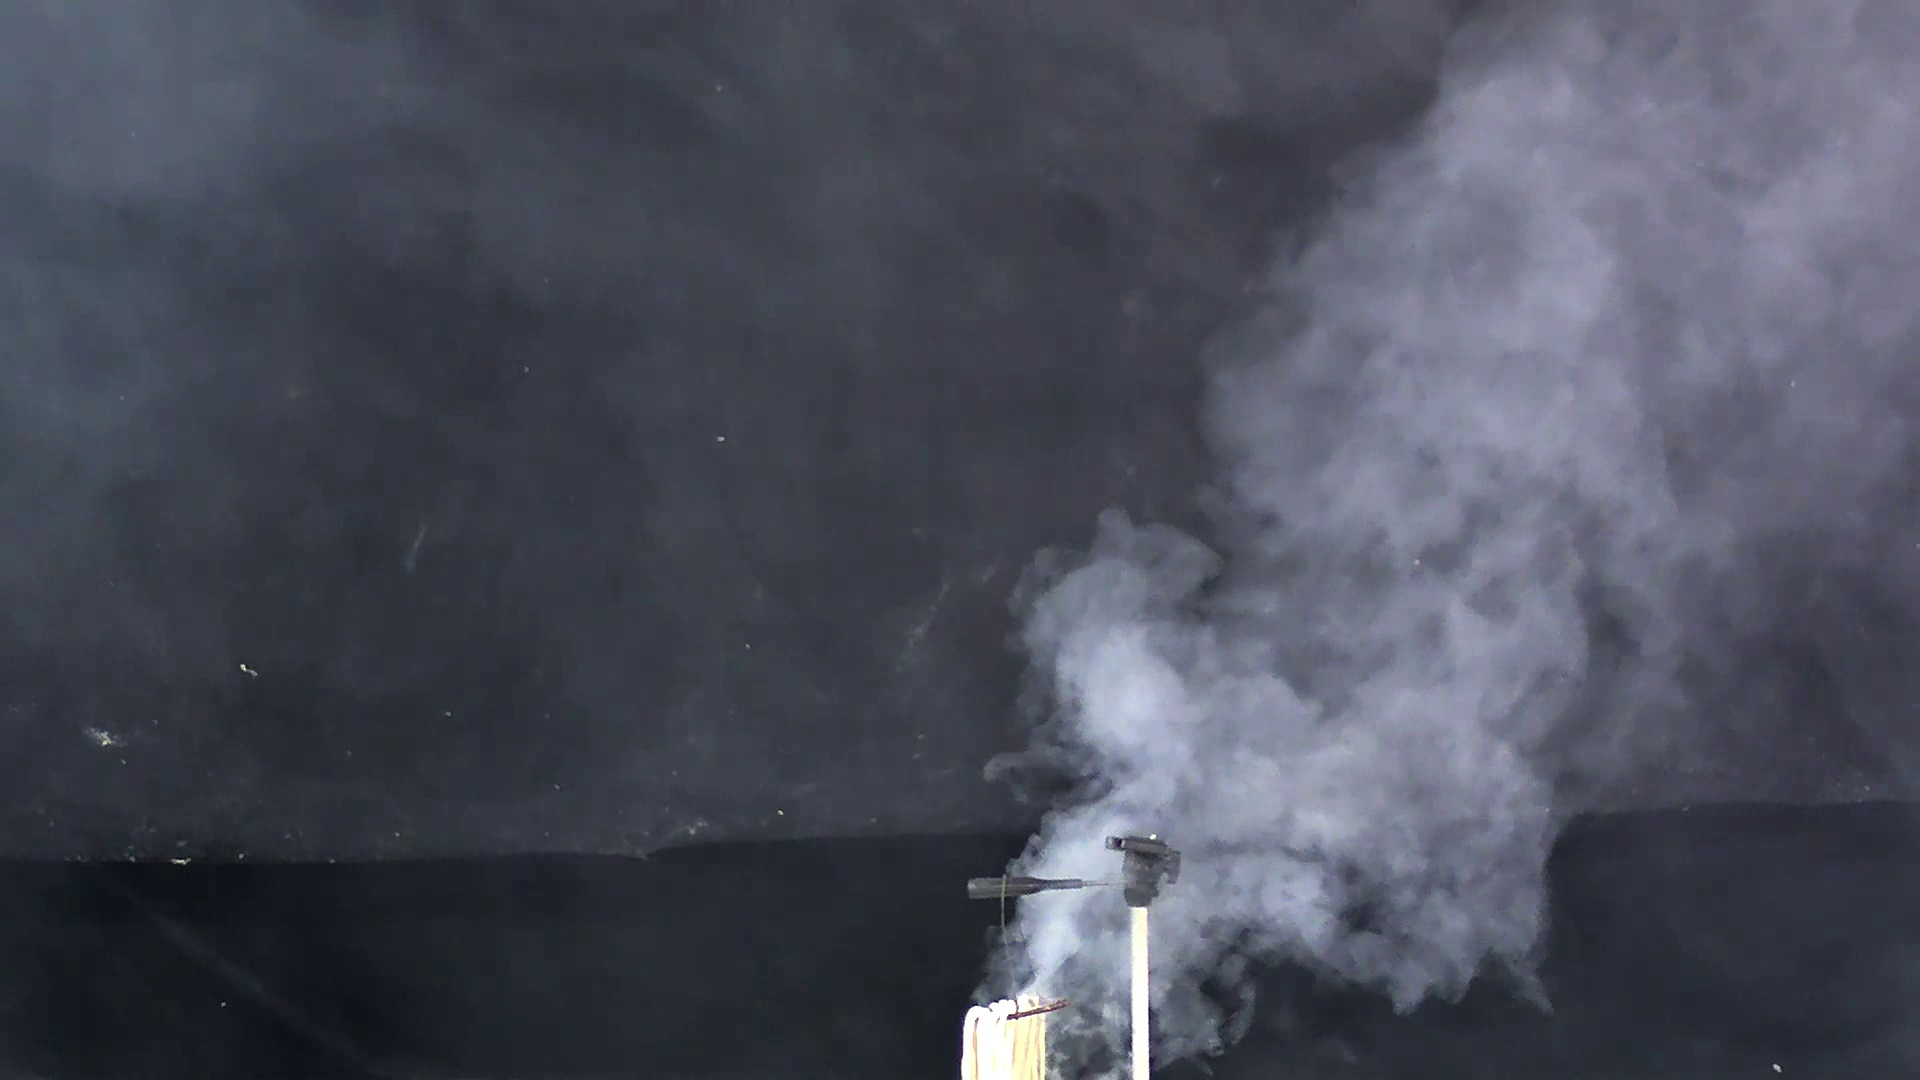smoke: (953, 32, 1880, 1004)
